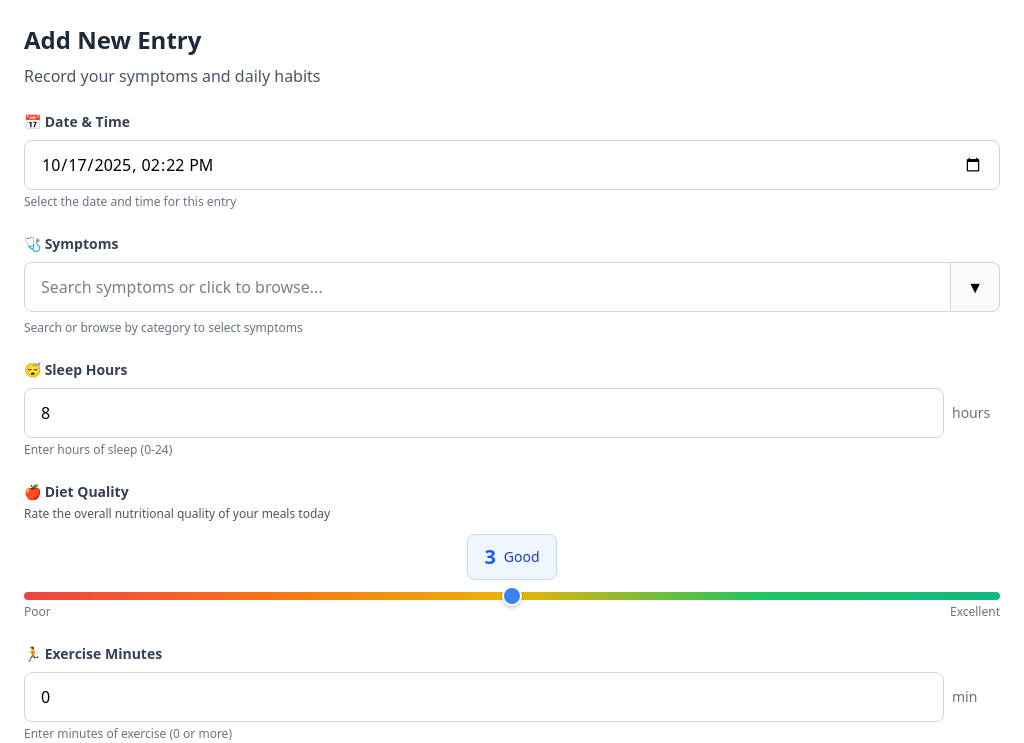
Test: SymptomForm › should clear all selected symptoms
Note: Select multiple symptoms
Type "headache" into the field with placeholder "Search symptoms or click to browse..." at (488, 287), box [24,262,951,312]
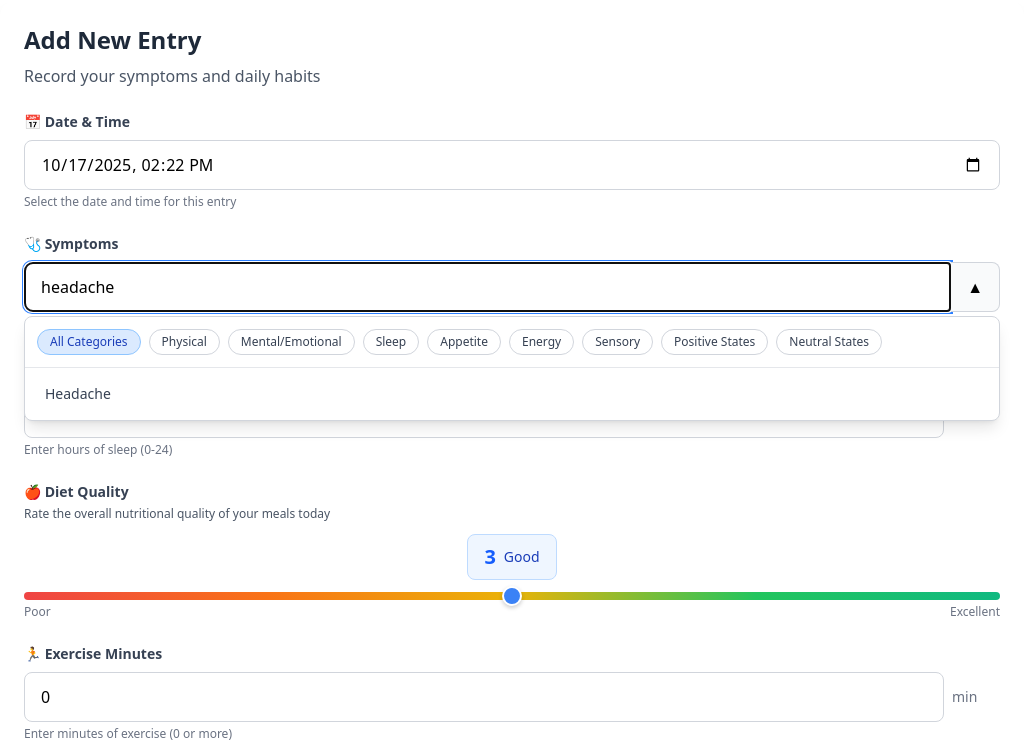
Click the button "Headache" at (78, 394), box [33,376,991,412]
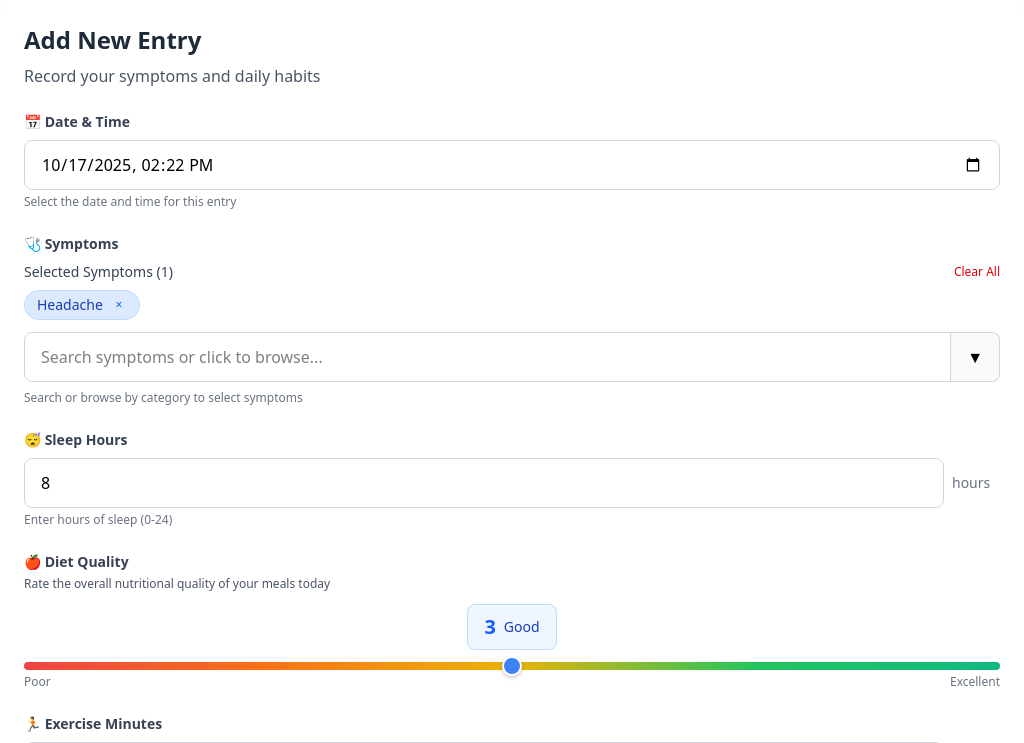
Type "fatigue" into the field with placeholder "Search symptoms or click to browse..." at (488, 357), box [24,332,951,382]
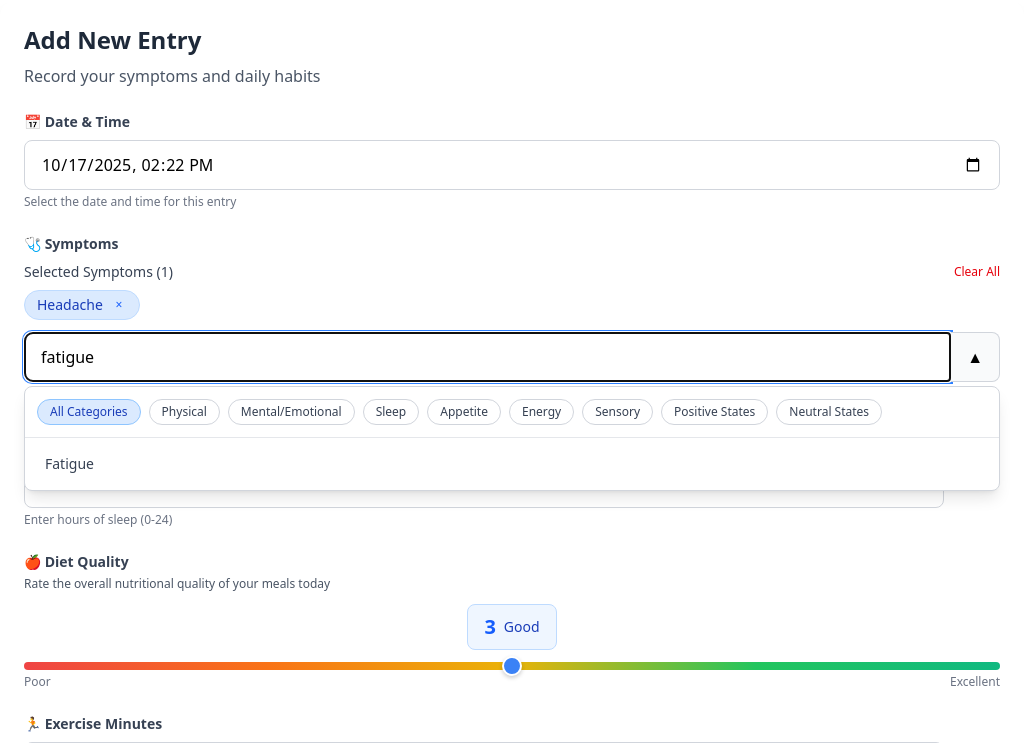
Click the button "Fatigue" at (69, 464), box [33,446,991,482]
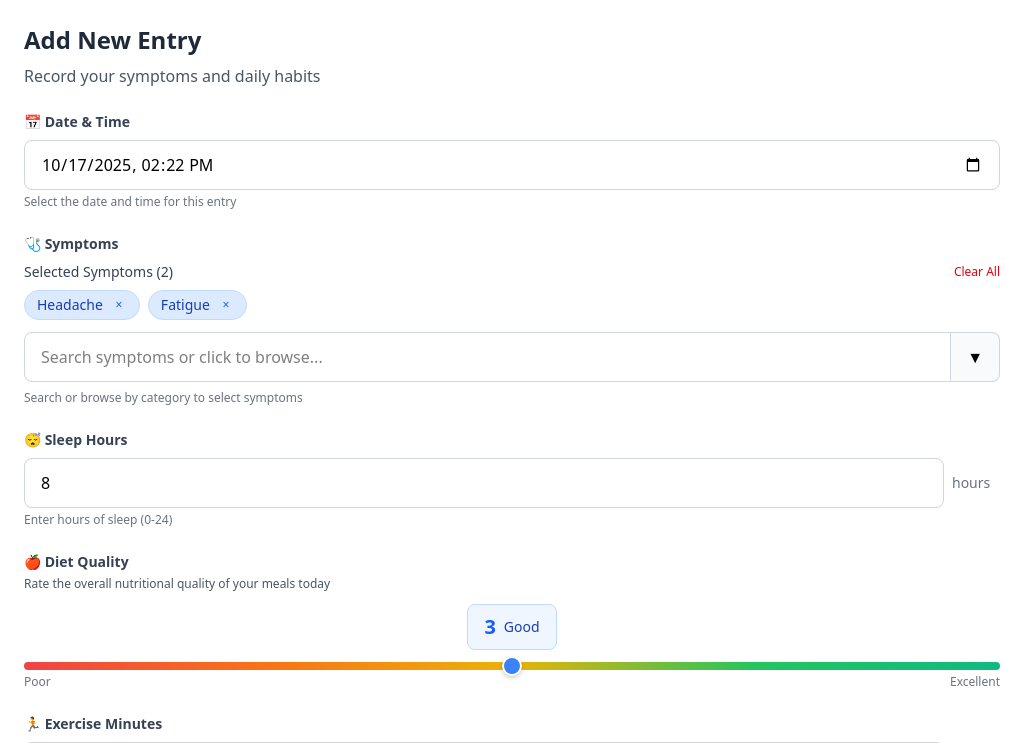
Expected: the text "Selected Symptoms (2)" is shown, [24,262,173,282]
Note: Clear all
Click the button "Clear All" at (977, 272), box [954,264,1000,280]
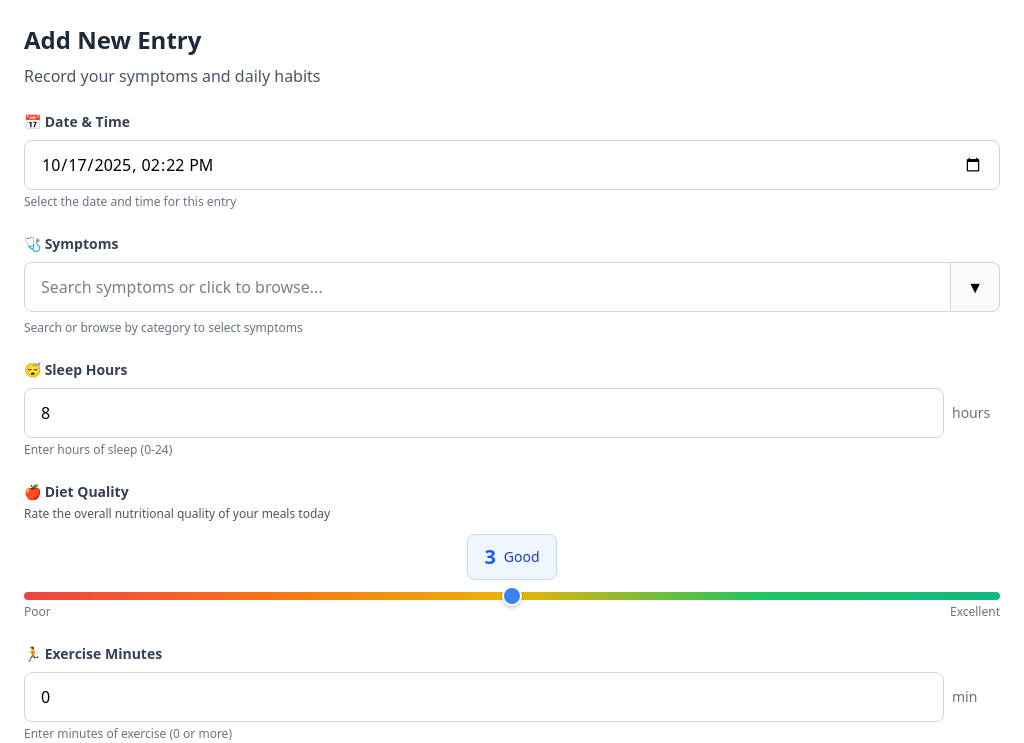
Expected: the text "Selected Symptoms (2)" is gone
